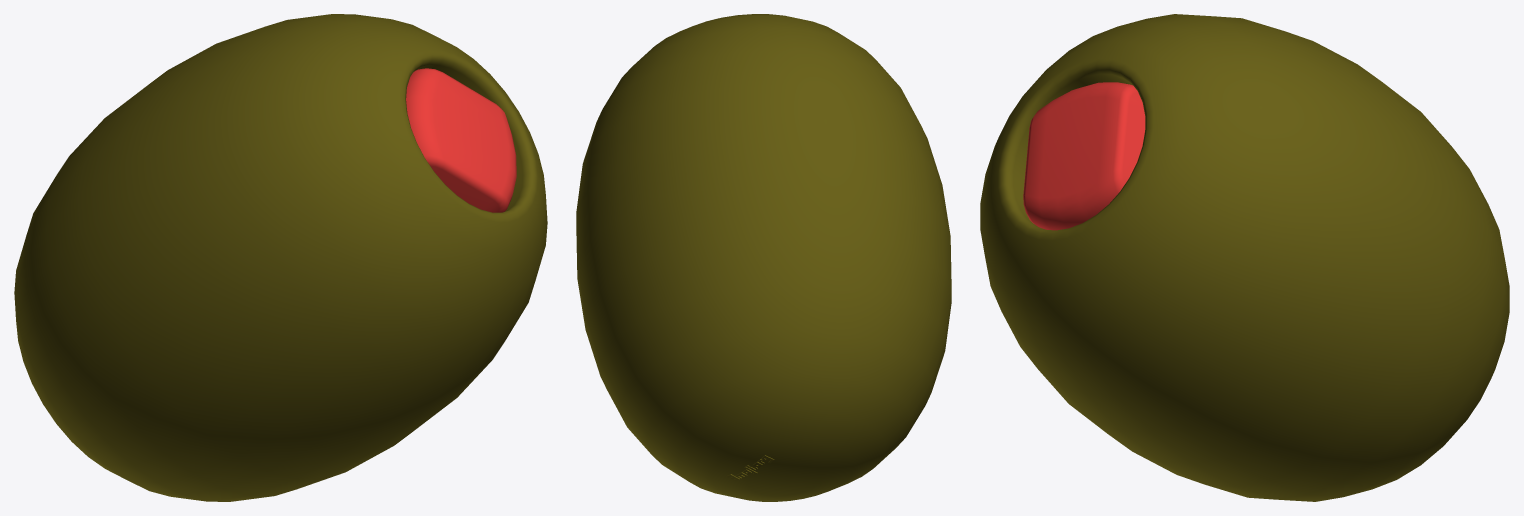
Rendered from olive.fbx.
3 views of the same model, side by side, from view 1: azimuth 30°, elevation 25°; view 2: azimuth 150°, elevation 25°; view 3: azimuth 270°, elevation 25° (orthographic). The views are drawn at different scales.
Visible parts, largest first — view 1: Sphere.481; view 2: Sphere.481; view 3: Sphere.481.
Boxes of the visible parts, x1,y1,x2,y2 form: Sphere.481: [14, 14, 547, 501]; Sphere.481: [576, 14, 951, 501]; Sphere.481: [980, 14, 1509, 501].
Bounding box in the file's own units: 193 × 208 × 205.
Materials: 1 (1 with a texture image).
